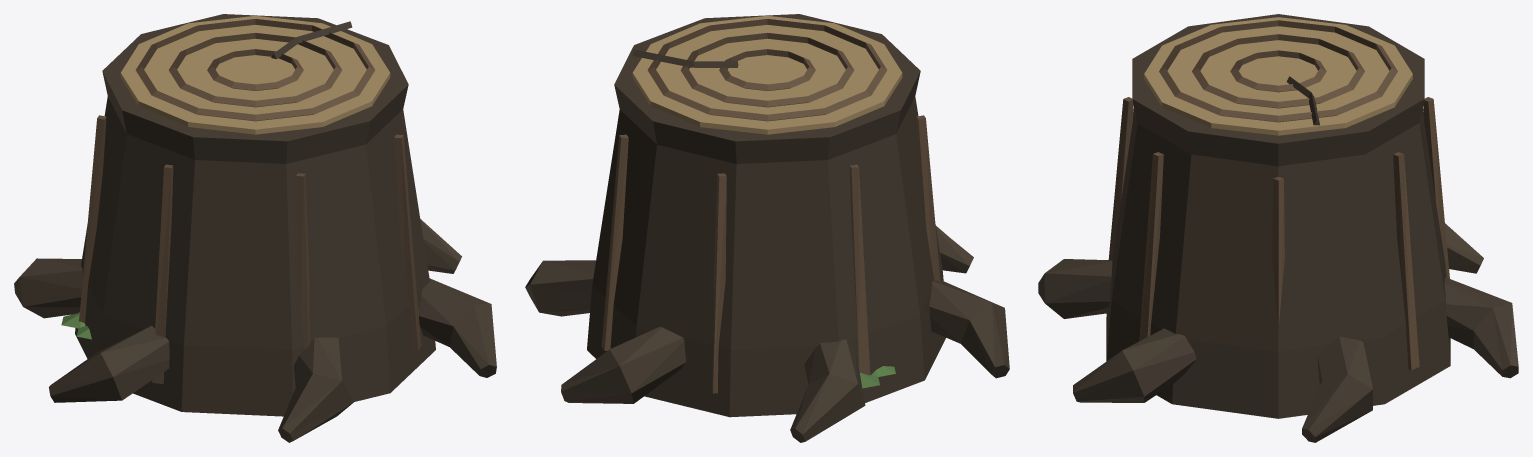
Rendered from hardwood_stump.glb.
3 views of the same model, side by side, from view 1: azimuth 30°, elevation 25°; view 2: azimuth 150°, elevation 25°; view 3: azimuth 270°, elevation 25° (orthographic).
Parts seen in each view (by area): view 1: geometry; view 2: geometry; view 3: geometry.
Part boxes in pixels (bbox=[...]): geometry: bbox=[14, 14, 496, 442]; geometry: bbox=[525, 14, 1009, 442]; geometry: bbox=[1038, 14, 1518, 442].
Bounding box in the file's own units: 0.9391 × 0.559 × 0.876.
